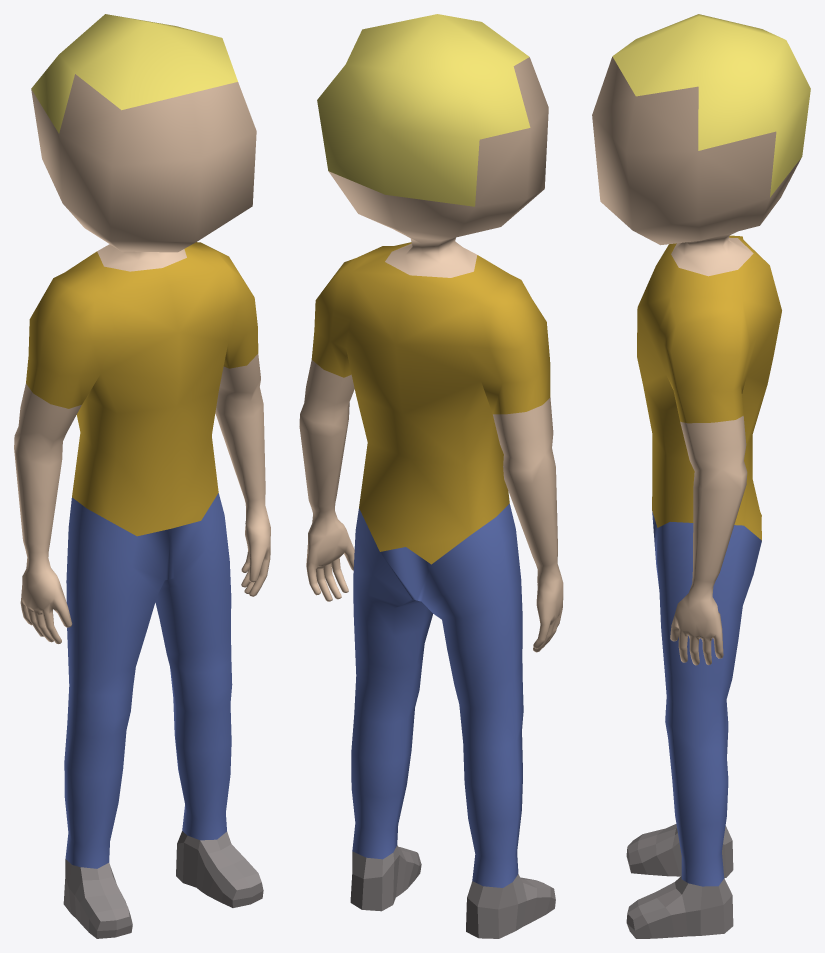
The model's file is villager-male.glb.
3 views of the same model, side by side, from view 1: azimuth 30°, elevation 25°; view 2: azimuth 150°, elevation 25°; view 3: azimuth 270°, elevation 25° (orthographic). The views are drawn at different scales.
Parts seen in each view (by area): view 1: Shirt, Legs, Head, Figure, Hair, Boots; view 2: Shirt, Legs, Hair, Figure, Head, Boots; view 3: Shirt, Head, Legs, Hair, Figure, Boots.
Boxes of the visible parts, left/top/right/bottom form: Shirt: left=26, top=242, right=258, bottom=536; Legs: left=64, top=493, right=232, bottom=868; Head: left=31, top=74, right=256, bottom=271; Figure: left=14, top=354, right=270, bottom=644; Hair: left=31, top=14, right=237, bottom=133; Boots: left=63, top=831, right=263, bottom=938; Shirt: left=311, top=242, right=550, bottom=564; Legs: left=351, top=503, right=523, bottom=887; Hair: left=317, top=14, right=530, bottom=206; Figure: left=299, top=360, right=563, bottom=652; Head: left=328, top=57, right=548, bottom=277; Boots: left=350, top=845, right=555, bottom=938; Shirt: left=637, top=235, right=781, bottom=540; Head: left=592, top=57, right=801, bottom=276; Legs: left=652, top=510, right=761, bottom=886; Hair: left=612, top=14, right=810, bottom=197; Figure: left=670, top=416, right=747, bottom=665; Boots: left=626, top=824, right=733, bottom=938.
Size of the model in its own units: 1.08 by 3.76 by 0.8463.
